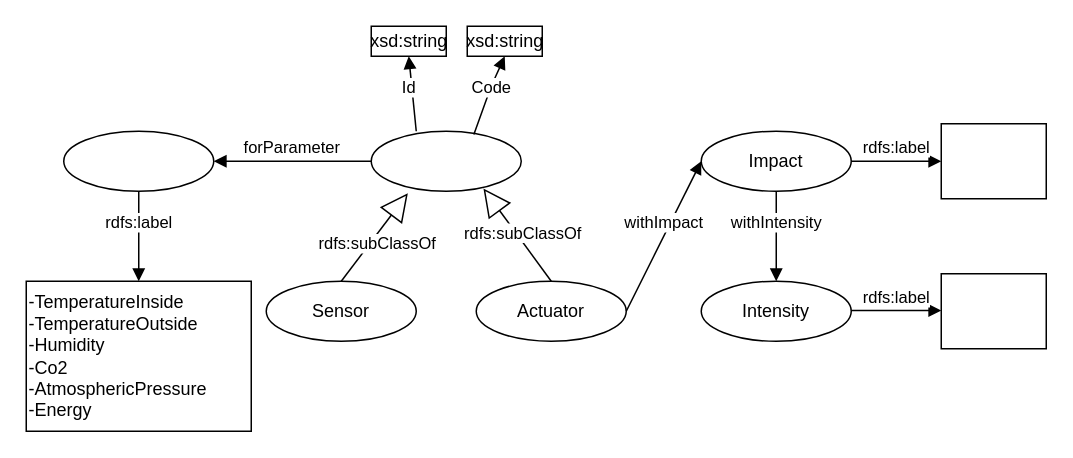
This 1073x458 diagram has some shape labels left out. Here are the shapes that lost their labels. From the top down, the centre of each, then its label:
At (138,160): "Parameter".
At (445,160): "Device".
At (993,160): "-Increase -Decrease".
At (993,310): "-None -Normal -Strong".
